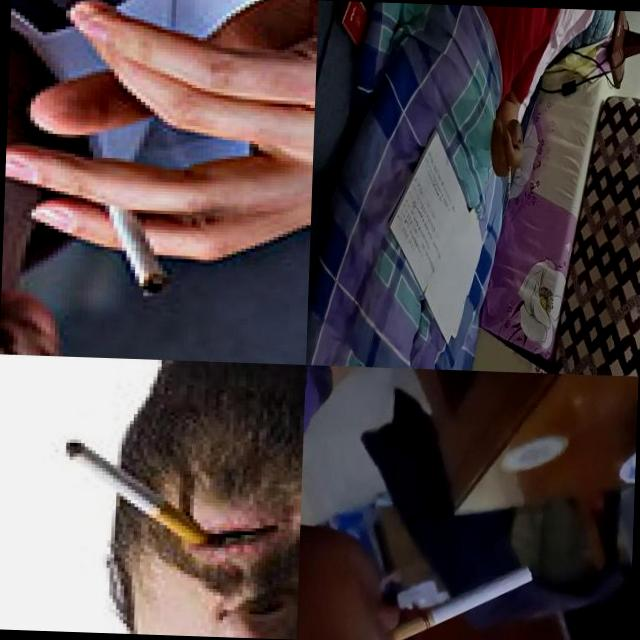cigarette: (60, 439, 214, 546), (389, 557, 535, 640), (108, 206, 171, 300), (507, 160, 511, 196)
